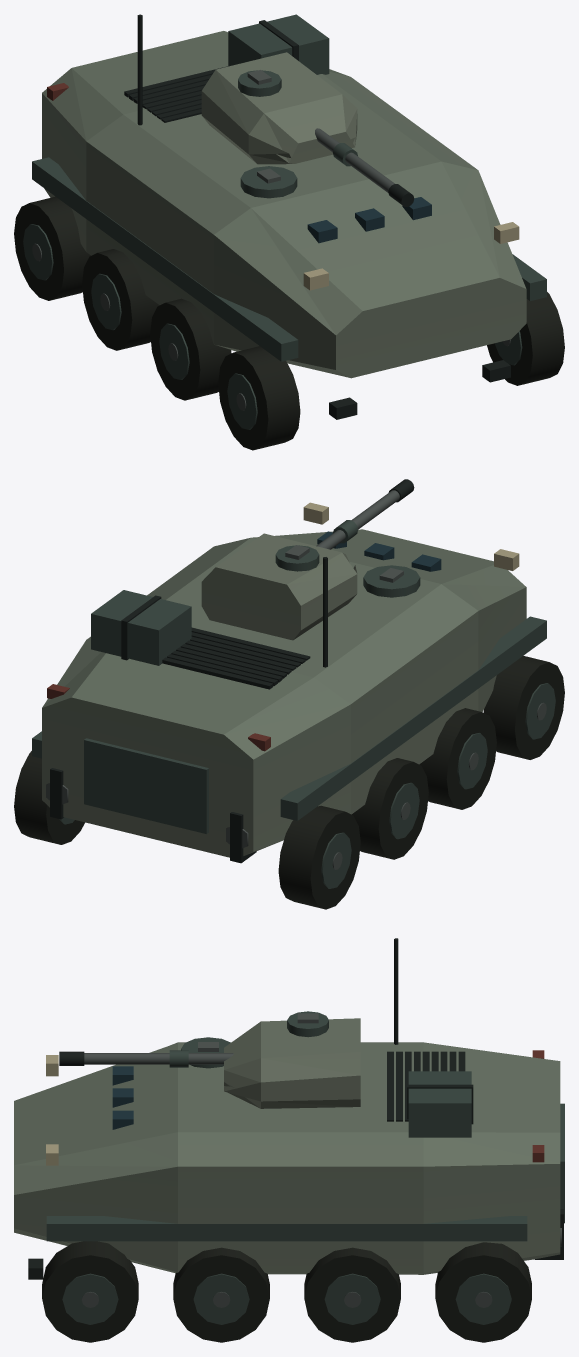
File: apc-lod.glb
3 views of the same model, one above another, from view 1: azimuth 30°, elevation 25°; view 2: azimuth 150°, elevation 25°; view 3: azimuth 270°, elevation 25° (orthographic). The views are drawn at different scales.
Parts seen in each view (by area): view 1: equipment (×3); view 2: equipment (×3); view 3: equipment (×3).
Boxes of the visible parts, <box> form: equipment (×3): <box>14,14,564,450</box>; equipment (×3): <box>14,479,564,909</box>; equipment (×3): <box>14,938,564,1342</box>.
Bounding box in the file's own units: 3.19 × 3.05 × 5.24.
